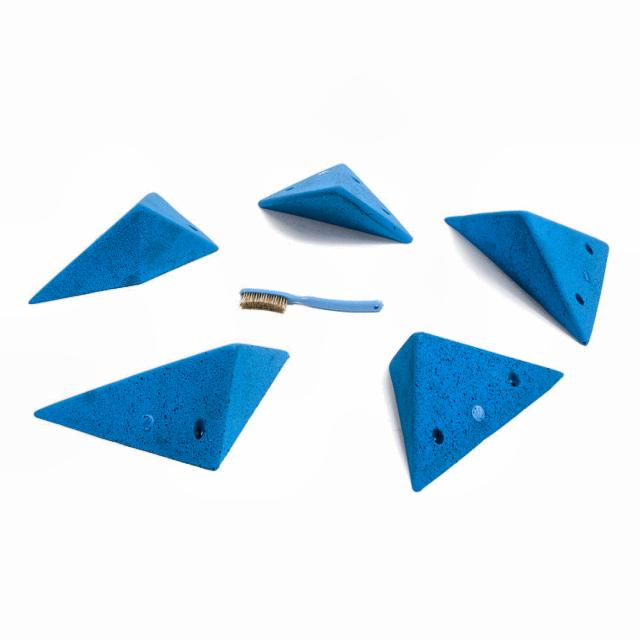Hold: (32, 348, 288, 472), (389, 332, 565, 490), (19, 192, 224, 307), (443, 210, 601, 348), (258, 159, 406, 243)
